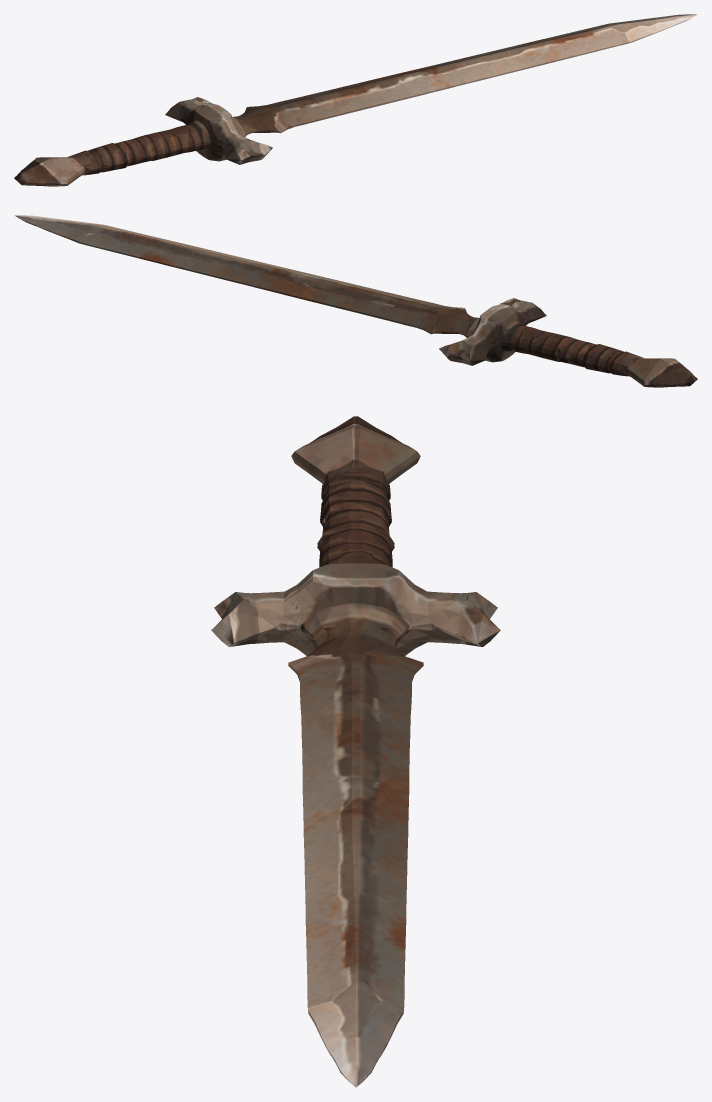
The model's file is newbie_sword_01.fbx.
3 renders of one model, top to bottom at view 1: azimuth 30°, elevation 25°; view 2: azimuth 150°, elevation 25°; view 3: azimuth 270°, elevation 25°, orthographic. The views are drawn at different scales.
Parts seen in each view (by area): view 1: newbie_sword_01; view 2: newbie_sword_01; view 3: newbie_sword_01.
Boxes of the visible parts, left/top/right/bottom form: newbie_sword_01: left=14, top=14, right=697, bottom=186; newbie_sword_01: left=14, top=215, right=697, bottom=387; newbie_sword_01: left=211, top=416, right=500, bottom=1087.
Bounding box in the file's own units: 3.07 × 0.1729 × 0.5658.
